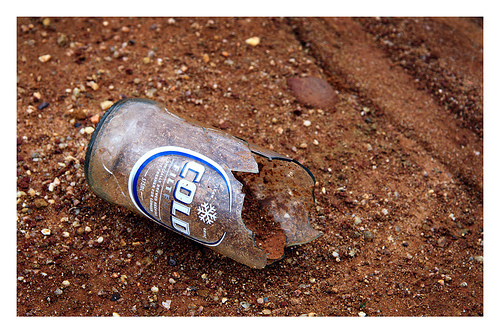litter: (82, 96, 325, 269)
